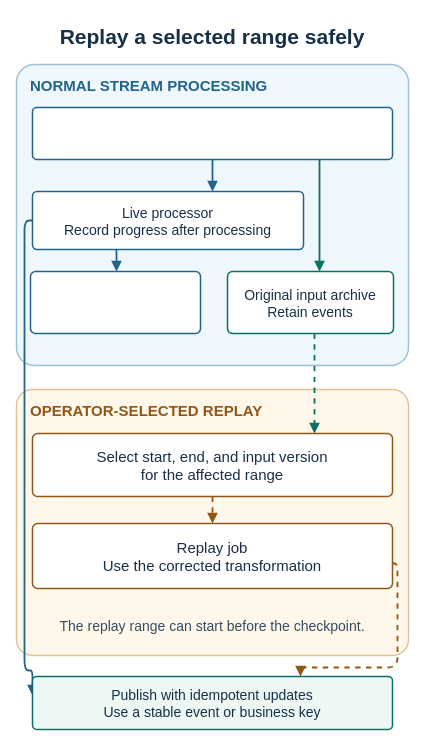
This 425x746 diagram has some shape labels left out. The box of each missing label's shape, as (x1, y1, x2, y2) in pixels:
Checkpoint Where live work resumes: (29, 270, 201, 334)
Stream records Event ID and timestamp: (31, 106, 393, 160)
